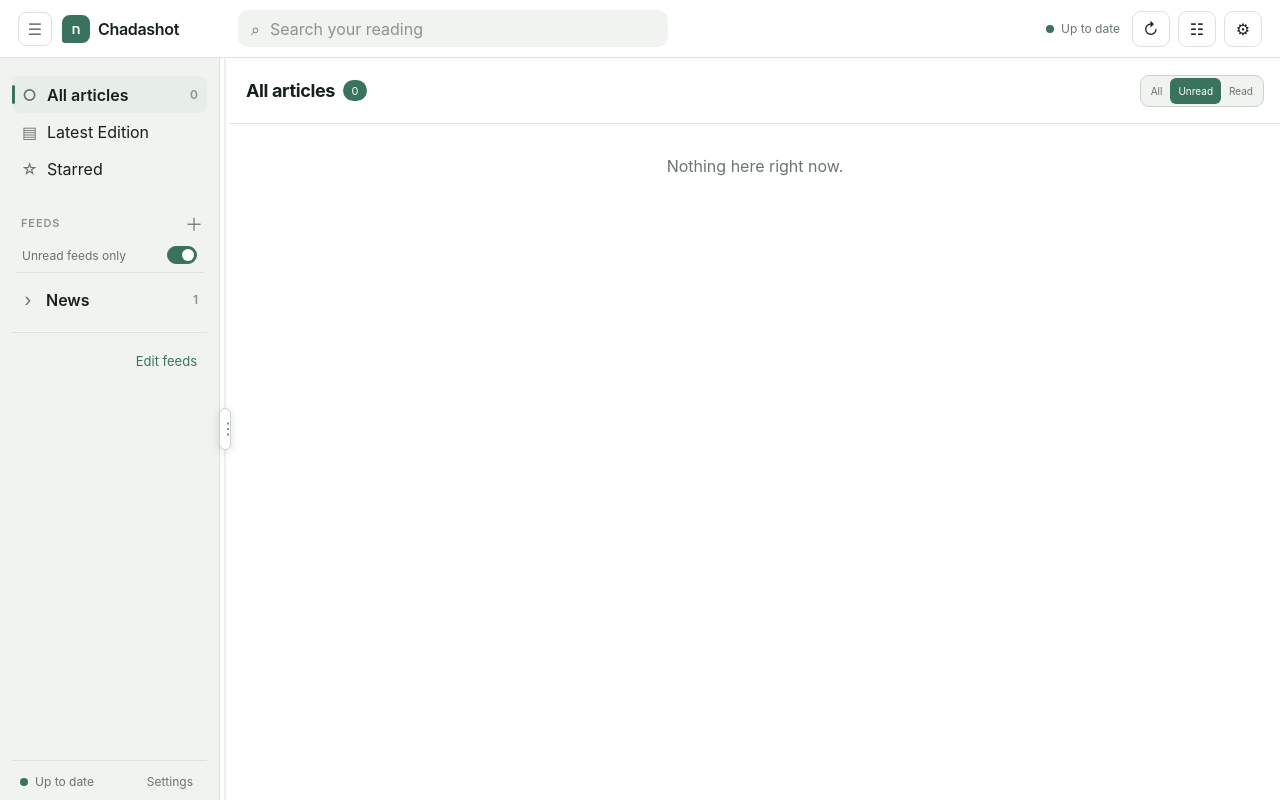
reading preferences › keeps mobile feed switch overrides temporary and shared with the desktop feed tree
What coordinates should you click on to do the following:
click the button named "Open feeds panel"
I would click on:
 (35, 28)
Its box is [18,12,52,46].
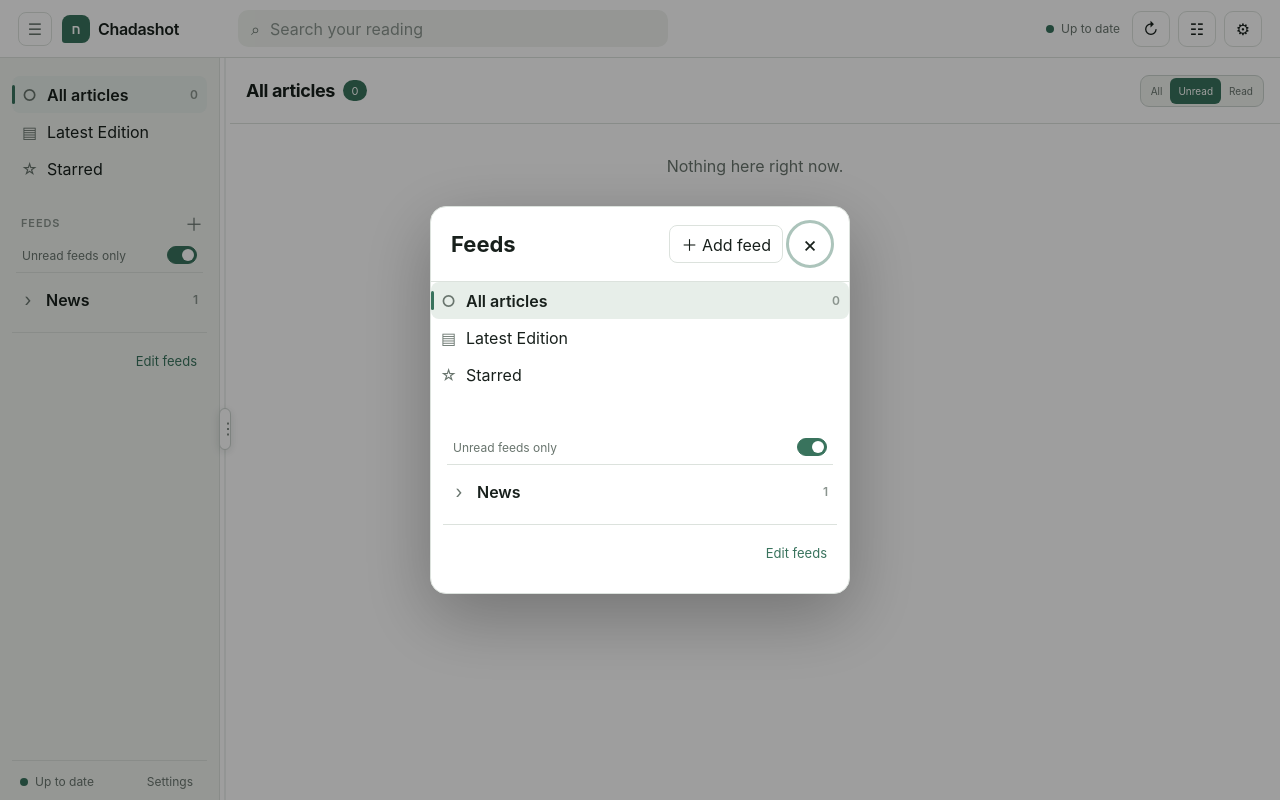
Check: the 2nd switch labelled "Unread feeds only" is checked
What coordinates should you click on to do the following:
click the 2nd switch labelled "Unread feeds only"
I would click on:
 (505, 447)
Its box is [447,431,833,465].
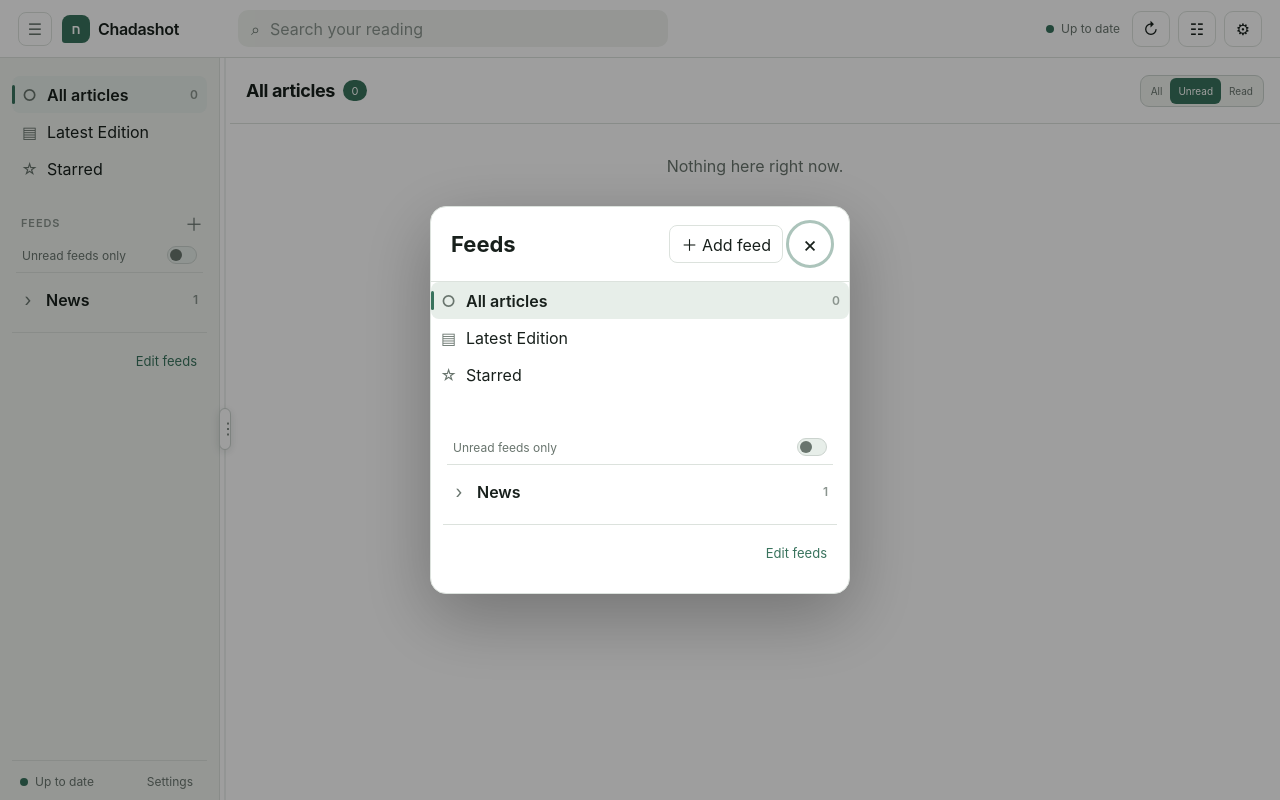
Check: the 2nd switch labelled "Unread feeds only" is not checked, box [447,431,833,465]
Check: the 1st switch labelled "Unread feeds only" is not checked, box [16,239,203,273]
What coordinates should you click on to do the following:
click the button named "Close feeds"
I would click on:
 (810, 244)
Its box is [791,225,829,263].
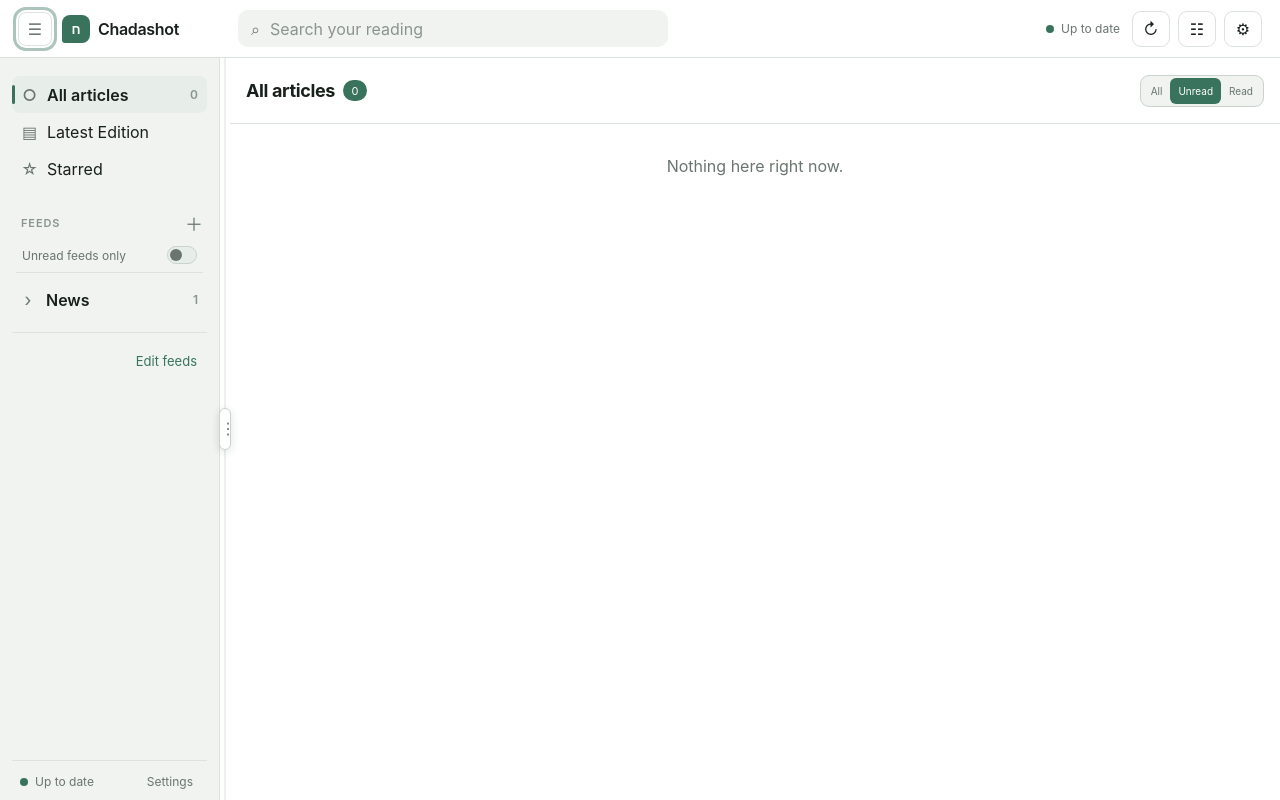
What coordinates should you click on to do the following:
click the button named "Open preferences"
I would click on:
 (1197, 28)
Its box is [1178,10,1216,46].
(page scrolled)
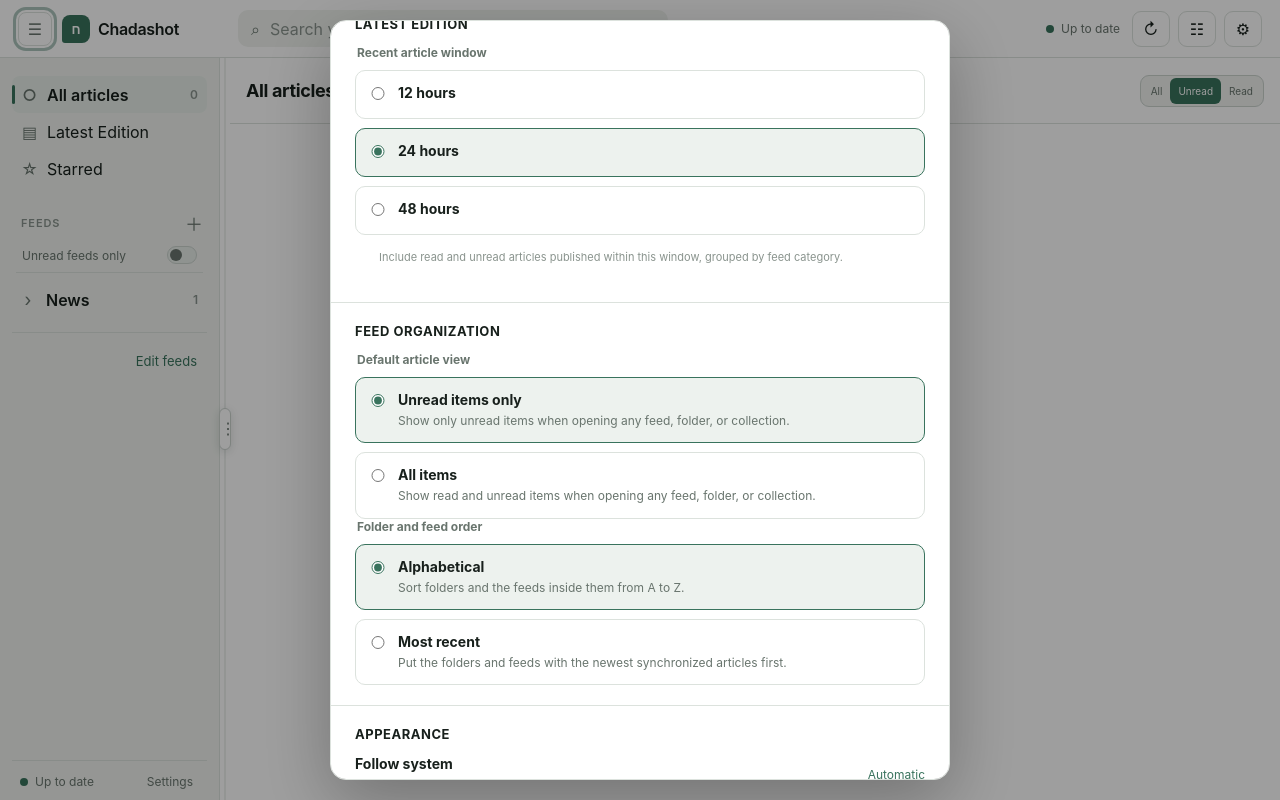
Check: the radio button labelled "Unread items only" is checked, box [369,394,387,407]
